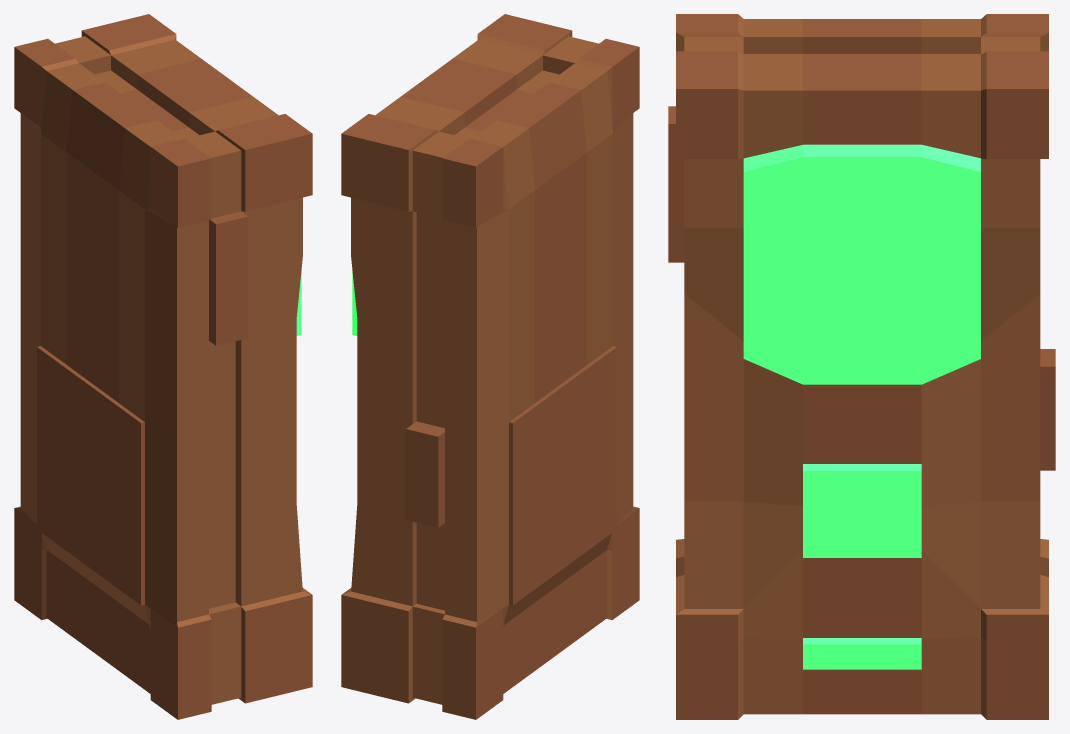
Rendered from untitlрыцрed(1).fbx.
The picture shows the model from 3 angles, left to right: view 1: azimuth 30°, elevation 25°; view 2: azimuth 150°, elevation 25°; view 3: azimuth 270°, elevation 25°; orthographic projection. The views are drawn at different scales.
Visible parts, largest first — view 1: Cube; view 2: Cube; view 3: Cube.
Part boxes in pixels (bbox=[...]): Cube: bbox=[14, 14, 312, 719]; Cube: bbox=[341, 14, 639, 719]; Cube: bbox=[668, 14, 1055, 719].
Bounding box in the file's own units: 124 × 409 × 228.
